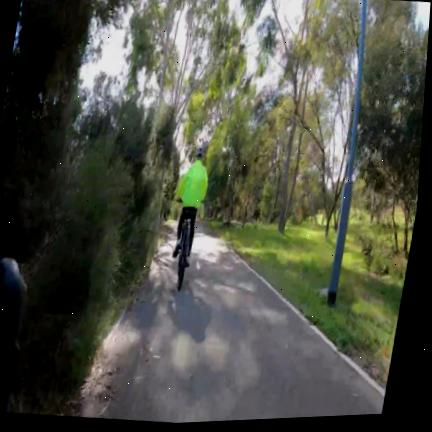Bike_Lane: (81, 223, 386, 423)
